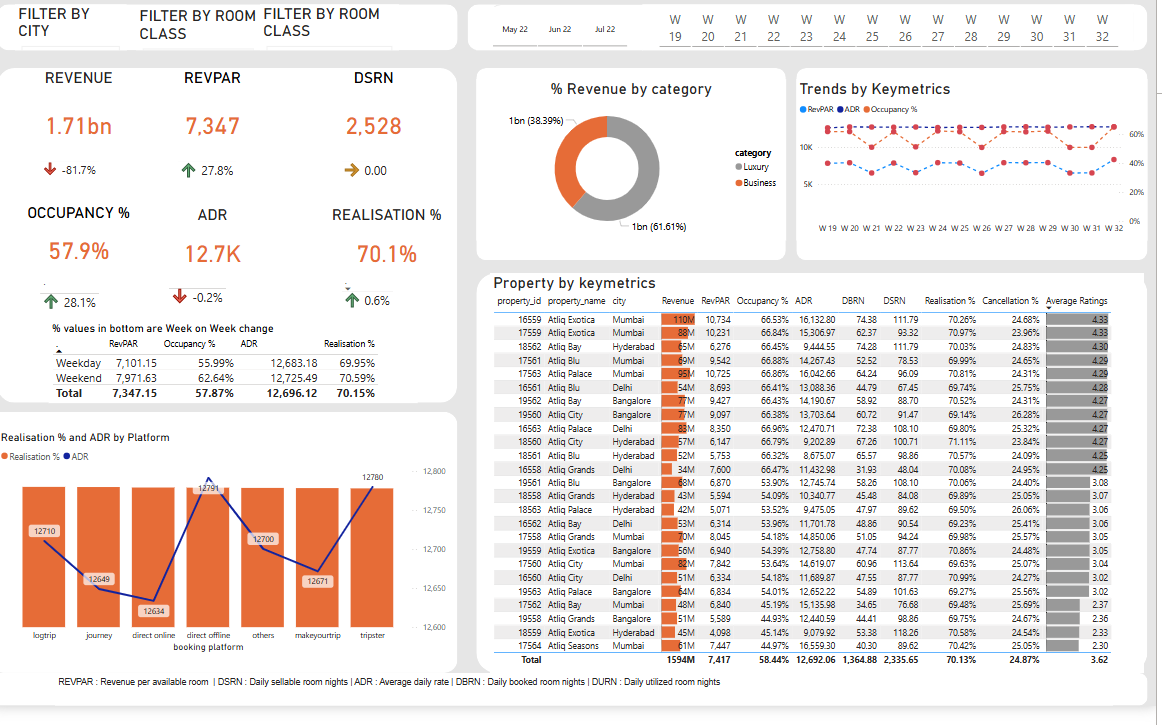

The page's visual inventory and layout, read from the dashboard file:
{"tool":"powerbi","page":{"name":"page1","canvas":[1800,1100],"ordinal":0},"visuals":[{"type":"shape","box":[0,646.4,721.7,403.3],"z":0},{"type":"shape","box":[750.6,432.2,1036.2,617.5],"z":1000},{"type":"shape","box":[737.1,17.4,1049.7,71.4],"z":2000},{"type":"shape","box":[1244.6,115.8,542.2,297.2],"z":3000},{"type":"shape","box":[750.6,115.8,478.6,297.2],"z":4000},{"type":"shape","box":[0,1049.7,1786.9,50.2],"z":5000},{"type":"shape","box":[11.6,115.8,710.1,517.2],"z":6000},{"type":"shape","box":[11.6,17.4,710.1,71.4],"z":7000},{"type":"slicer","title":"FILTER BY CITY","fields":{"Values":["dim_hotels.city"]},"box":[38.6,17.4,171.7,71.4],"z":8000},{"type":"slicer","title":"FILTER BY ROOM CLASS","fields":{"Values":["dim_rooms.room_class"]},"box":[225.8,21.2,191,67.5],"z":9000},{"type":"slicer","title":"FILTER BY ROOM CLASS","fields":{"Values":["dim_rooms.room_class"]},"box":[416.8,17.4,214.2,71.4],"z":10000},{"type":"shape","box":[771.9,17.4,993.8,71.4],"z":11000},{"type":"tableEx","title":"Property by keymetrics","fields":{"Values":["dim_hotels.property_id","dim_hotels.property_name","dim_hotels.city","new measures.Revenue","new measures.RevPAR","new measures.Occupancy %","new measures.ADR","new measures.DBRN","new measures.DSRN","new measures.Realisation %","new measures.Cancellation %","new measures.Average Ratings"]},"box":[771.9,432.2,1009.2,617.5],"z":12000},{"type":"slicer","fields":{"Values":["dim_date.mmm yy"]},"box":[750.6,21.2,256.6,67.5],"z":13000},{"type":"slicer","fields":{"Values":["dim_date.week no"]},"box":[1007.3,17.4,758.4,71.4],"z":14000},{"type":"donutChart","title":"% Revenue by category","fields":{"Category":["dim_hotels.category"],"Y":["new measures.Revenue"]},"box":[750.6,133.1,478.6,248.9],"z":15000},{"type":"tableEx","fields":{"Values":["new measures.DSRN WoW change %"]},"box":[536.5,229.6,111.9,84.9],"z":16000},{"type":"tableEx","fields":{"Values":["new measures.Revpar WoW change %"]},"box":[283.7,229.6,117.7,84.9],"z":17000},{"type":"tableEx","fields":{"Values":["new measures.Occupancy WoW change %"]},"box":[71.4,432.2,121.6,63.7],"z":18000},{"type":"tableEx","fields":{"Values":["new measures.Realisation WoW change %"]},"box":[536.5,430.3,111.9,63.7],"z":19000},{"type":"tableEx","fields":{"Values":["new measures.ADR WoW change %"]},"box":[270.2,424.5,131.2,77.2],"z":20000},{"type":"tableEx","title":"% values in bottom are Week on Week change","fields":{"Values":["dim_date.day_type","new measures.RevPAR","new measures.Occupancy %","new measures.ADR","new measures.Realisation %"]},"box":[90.7,507.5,569.3,125.4],"z":21000},{"type":"lineChart","title":"Trends by Keymetrics","fields":{"Y":["new measures.RevPAR","new measures.ADR"],"Category":["dim_date.week no","dim_date.mmm yy.Variation.Date Hierarchy.Month"],"Y2":["new measures.Occupancy %"]},"box":[1244.6,133.1,542.2,248.9],"z":22000},{"type":"lineStackedColumnComboChart","title":"Realisation % and ADR by Platform","fields":{"Y":["new measures.Realisation %"],"Category":["fact_bookings.booking_platform"],"Y2":["new measures.ADR"]},"box":[11.6,675.4,696.6,347.3],"z":23000},{"type":"card","title":"OCCUPANCY %","fields":{"Values":["new measures.Occupancy %"]},"box":[42.5,324.2,189.1,115.8],"z":24000},{"type":"card","title":"ADR","fields":{"Values":["new measures.ADR"]},"box":[248.9,328,189.1,115.8],"z":25000},{"type":"card","title":"REALISATION %","fields":{"Values":["new measures.Realisation %"]},"box":[517.2,328,191,115.8],"z":26000},{"type":"tableEx","fields":{"Values":["new measures.Revenue WoW change %"]},"box":[71.4,229.6,129.3,61.7],"z":27000},{"type":"card","title":"DSRN","fields":{"Values":["new measures.DSRN"]},"box":[497.9,115.8,189.1,144.7],"z":28000},{"type":"card","title":"REVPAR","fields":{"Values":["new measures.RevPAR"]},"box":[248.9,115.8,189.1,144.7],"z":29000},{"type":"card","title":"REVENUE","fields":{"Values":["new measures.Revenue"]},"box":[42.5,115.8,189.1,144.7],"z":30000},{"type":"textbox","box":[100.3,1049.7,1632.5,50.2],"z":32000}]}

Visuals, with their boxes in screenshot pixels (x1, y1, x2, y2), scaled from the page's 1800x1100 canvas onto the 1162x725 screenshot:
shape: locate(0, 426, 466, 692)
shape: locate(485, 285, 1153, 692)
shape: locate(476, 11, 1153, 59)
shape: locate(803, 76, 1153, 272)
shape: locate(485, 76, 794, 272)
shape: locate(0, 692, 1154, 724)
shape: locate(7, 76, 466, 417)
shape: locate(7, 11, 466, 59)
"FILTER BY CITY" slicer: locate(25, 11, 136, 59)
"FILTER BY ROOM CLASS" slicer: locate(146, 14, 269, 58)
"FILTER BY ROOM CLASS" slicer: locate(269, 11, 407, 59)
shape: locate(498, 11, 1140, 59)
"Property by keymetrics" tableEx: locate(498, 285, 1150, 692)
slicer - dim_date.mmm yy: locate(485, 14, 650, 58)
slicer - dim_date.week no: locate(650, 11, 1140, 59)
"% Revenue by category" donutChart: locate(485, 88, 794, 252)
tableEx - new measures.DSRN WoW change %: locate(346, 151, 419, 207)
tableEx - new measures.Revpar WoW change %: locate(183, 151, 259, 207)
tableEx - new measures.Occupancy WoW change %: locate(46, 285, 125, 327)
tableEx - new measures.Realisation WoW change %: locate(346, 284, 419, 326)
tableEx - new measures.ADR WoW change %: locate(174, 280, 259, 331)
"% values in bottom are Week on Week change" tableEx: locate(59, 334, 426, 417)
"Trends by Keymetrics" lineChart: locate(803, 88, 1153, 252)
"Realisation % and ADR by Platform" lineStackedColumnComboChart: locate(7, 445, 457, 674)
"OCCUPANCY %" card: locate(27, 214, 150, 290)
"ADR" card: locate(161, 216, 283, 293)
"REALISATION %" card: locate(334, 216, 457, 293)
tableEx - new measures.Revenue WoW change %: locate(46, 151, 130, 192)
"DSRN" card: locate(321, 76, 443, 172)
"REVPAR" card: locate(161, 76, 283, 172)
"REVENUE" card: locate(27, 76, 150, 172)
textbox: locate(65, 692, 1119, 724)
